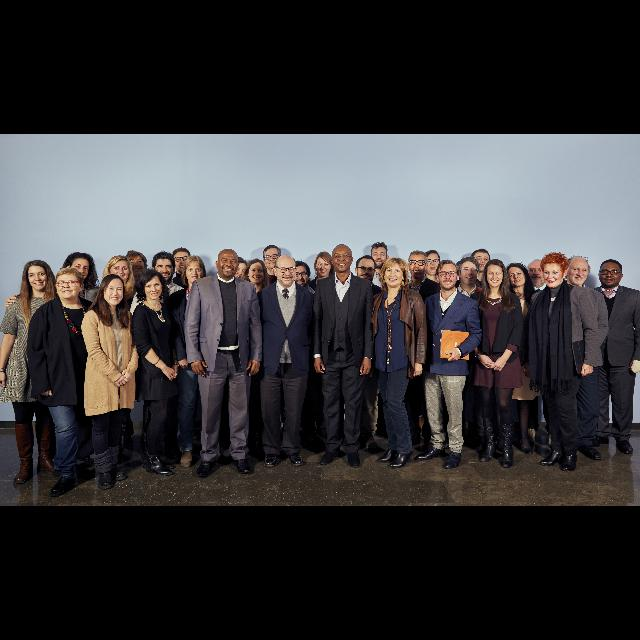head: (56, 269, 84, 299), (150, 252, 176, 284), (542, 256, 568, 288), (272, 256, 298, 286), (564, 256, 590, 286), (598, 258, 624, 288), (139, 270, 163, 300), (435, 260, 459, 290), (67, 255, 91, 283), (104, 274, 125, 306), (215, 249, 239, 277), (330, 244, 354, 272), (384, 257, 406, 287), (28, 260, 48, 292), (457, 256, 478, 286), (355, 256, 377, 284), (484, 260, 506, 288), (526, 259, 548, 287), (290, 260, 310, 290), (109, 256, 131, 282), (185, 256, 205, 284), (408, 250, 428, 278), (125, 252, 148, 276), (246, 258, 266, 284), (314, 252, 334, 278), (172, 248, 192, 272), (262, 245, 282, 269), (424, 251, 442, 277), (470, 250, 490, 272), (507, 264, 527, 286), (232, 258, 250, 282), (371, 245, 389, 269)
person: (2, 250, 112, 466), (23, 265, 111, 499), (181, 247, 265, 479), (522, 251, 604, 474), (411, 258, 485, 472), (0, 258, 68, 488), (310, 244, 376, 470), (366, 255, 430, 470), (544, 254, 610, 462), (78, 272, 140, 492), (128, 248, 190, 464), (254, 254, 316, 470), (466, 257, 526, 469), (170, 253, 226, 469), (130, 268, 182, 478), (444, 256, 494, 452), (493, 260, 543, 456), (396, 249, 444, 451), (160, 246, 206, 452), (276, 259, 324, 455), (92, 254, 138, 456), (213, 256, 260, 447), (344, 254, 388, 452), (418, 248, 459, 450), (116, 248, 156, 452), (521, 258, 563, 450), (360, 240, 400, 440), (235, 258, 275, 457), (462, 247, 500, 451), (252, 243, 290, 444), (302, 249, 342, 439)
